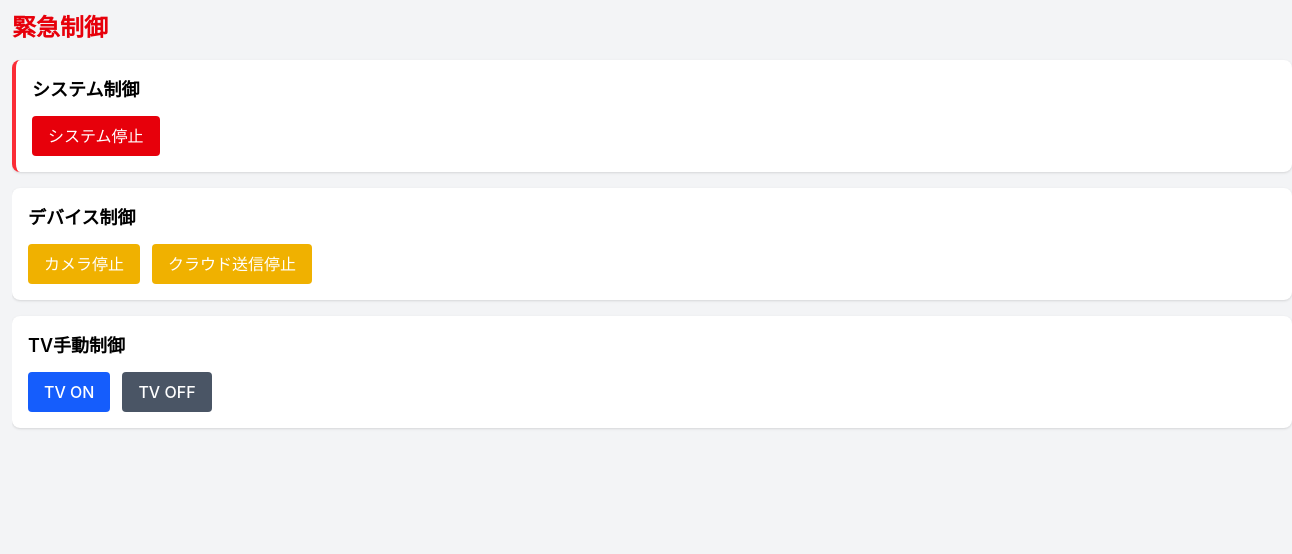
it: EmergencyControl › should toggle camera
Click the button with test id "camera-toggle" at [84, 264], box [28,244,140,284]
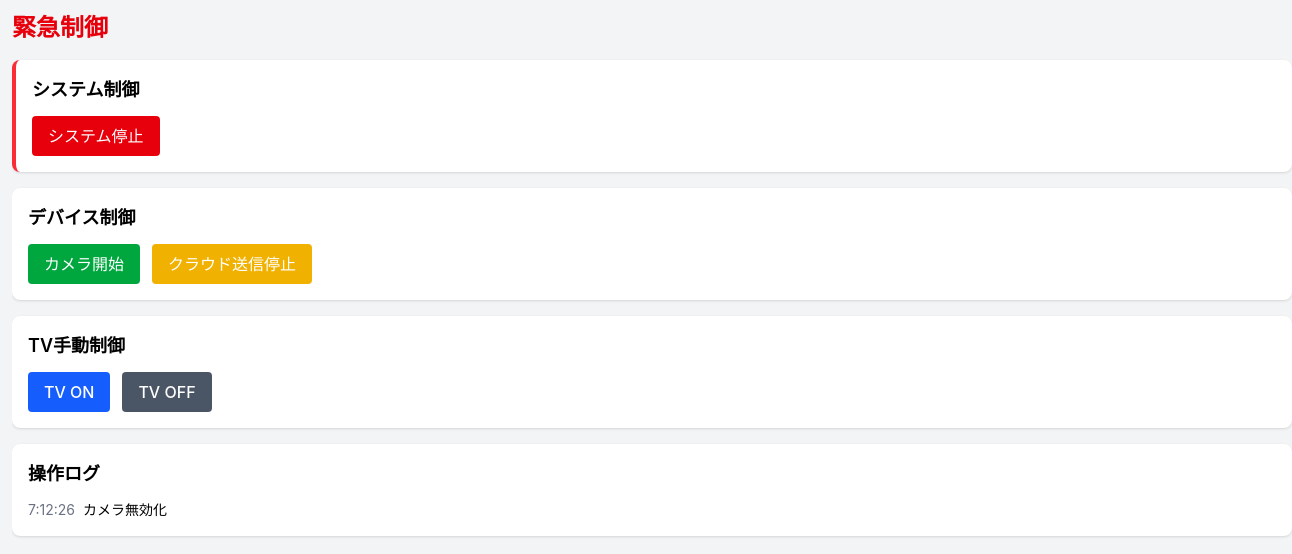
Check: the button with test id "camera-toggle" reads "カメラ開始", box [28,244,140,284]
